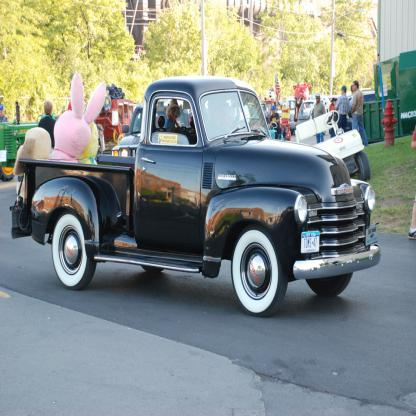Truck: (10, 75, 381, 318), (294, 110, 370, 182)
